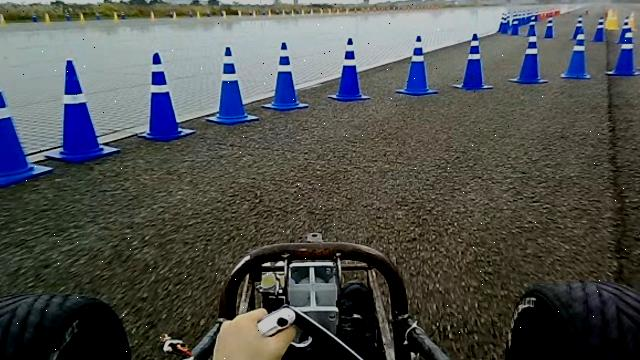blue cone: (44, 58, 120, 163), (0, 66, 53, 187), (137, 51, 195, 141), (204, 45, 259, 125), (262, 41, 310, 111), (327, 37, 371, 102), (395, 35, 439, 96), (508, 26, 550, 85), (452, 32, 493, 90), (605, 28, 640, 76), (560, 28, 592, 79)
